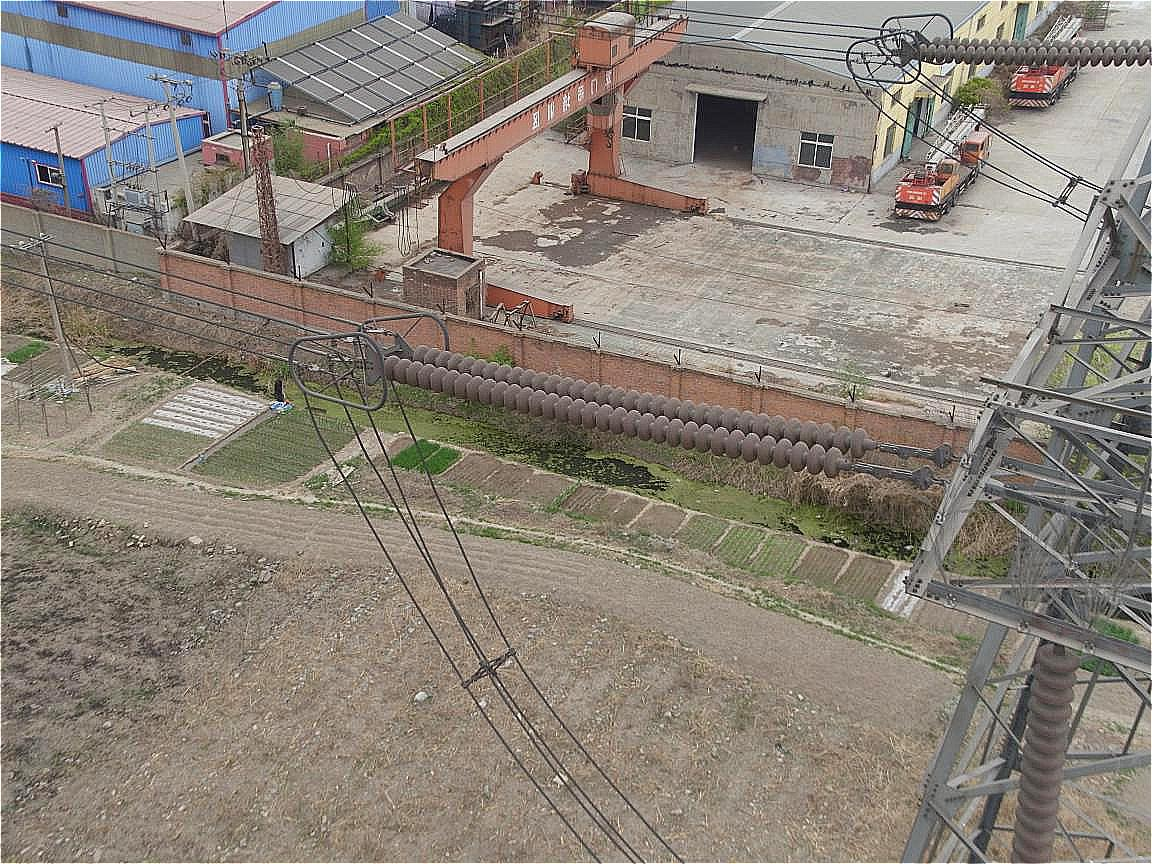insultor1: (360, 342, 903, 474)
